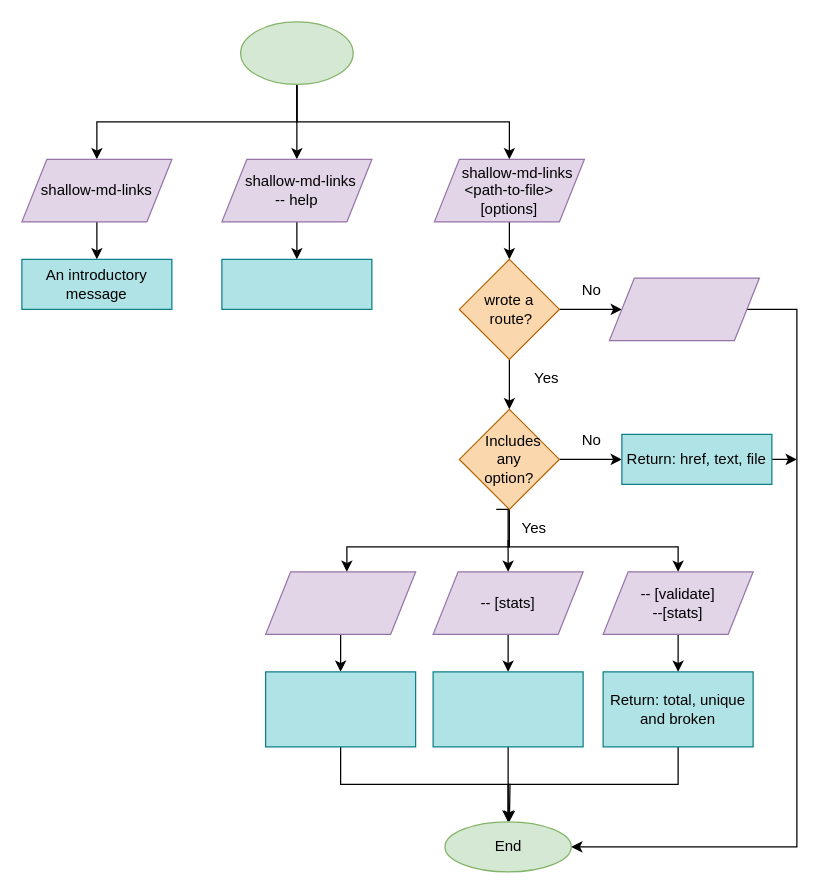
This 829x894 diagram has some shape labels left out. The shapes that lost their labels are listed below. From the top down, each one's box as (x1, y1, x2, y2) in pixels, then its label:
(239, 21, 353, 84): Start
(221, 258, 372, 309): User help instructions
(608, 277, 759, 341): Error: Enter a path and options
(264, 571, 416, 634): -- [validate]
(264, 671, 416, 747): Return: href, text, file, status, message: (fail or ok)
(432, 671, 583, 747): Return: total and unique
